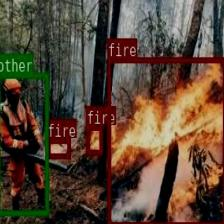fire: (107, 56, 224, 224), (85, 124, 102, 154), (46, 137, 70, 157)
